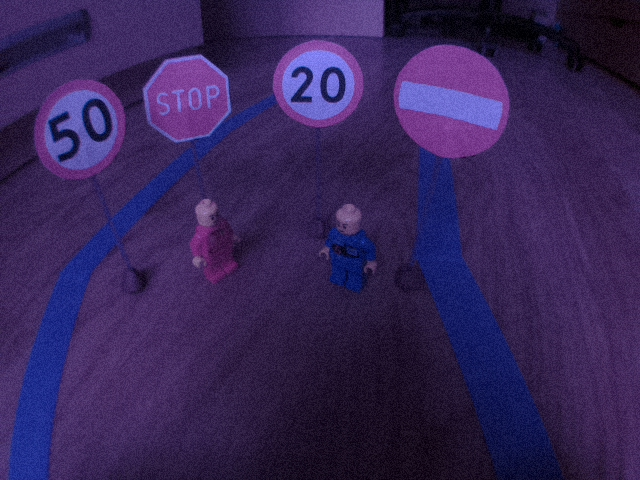LEGO_person: (316, 200, 380, 295), (186, 196, 241, 287)
ogr_20: (270, 36, 365, 129)
ogr_50: (32, 76, 127, 184)
stop: (141, 51, 234, 146)
zakaz: (392, 41, 513, 161)
